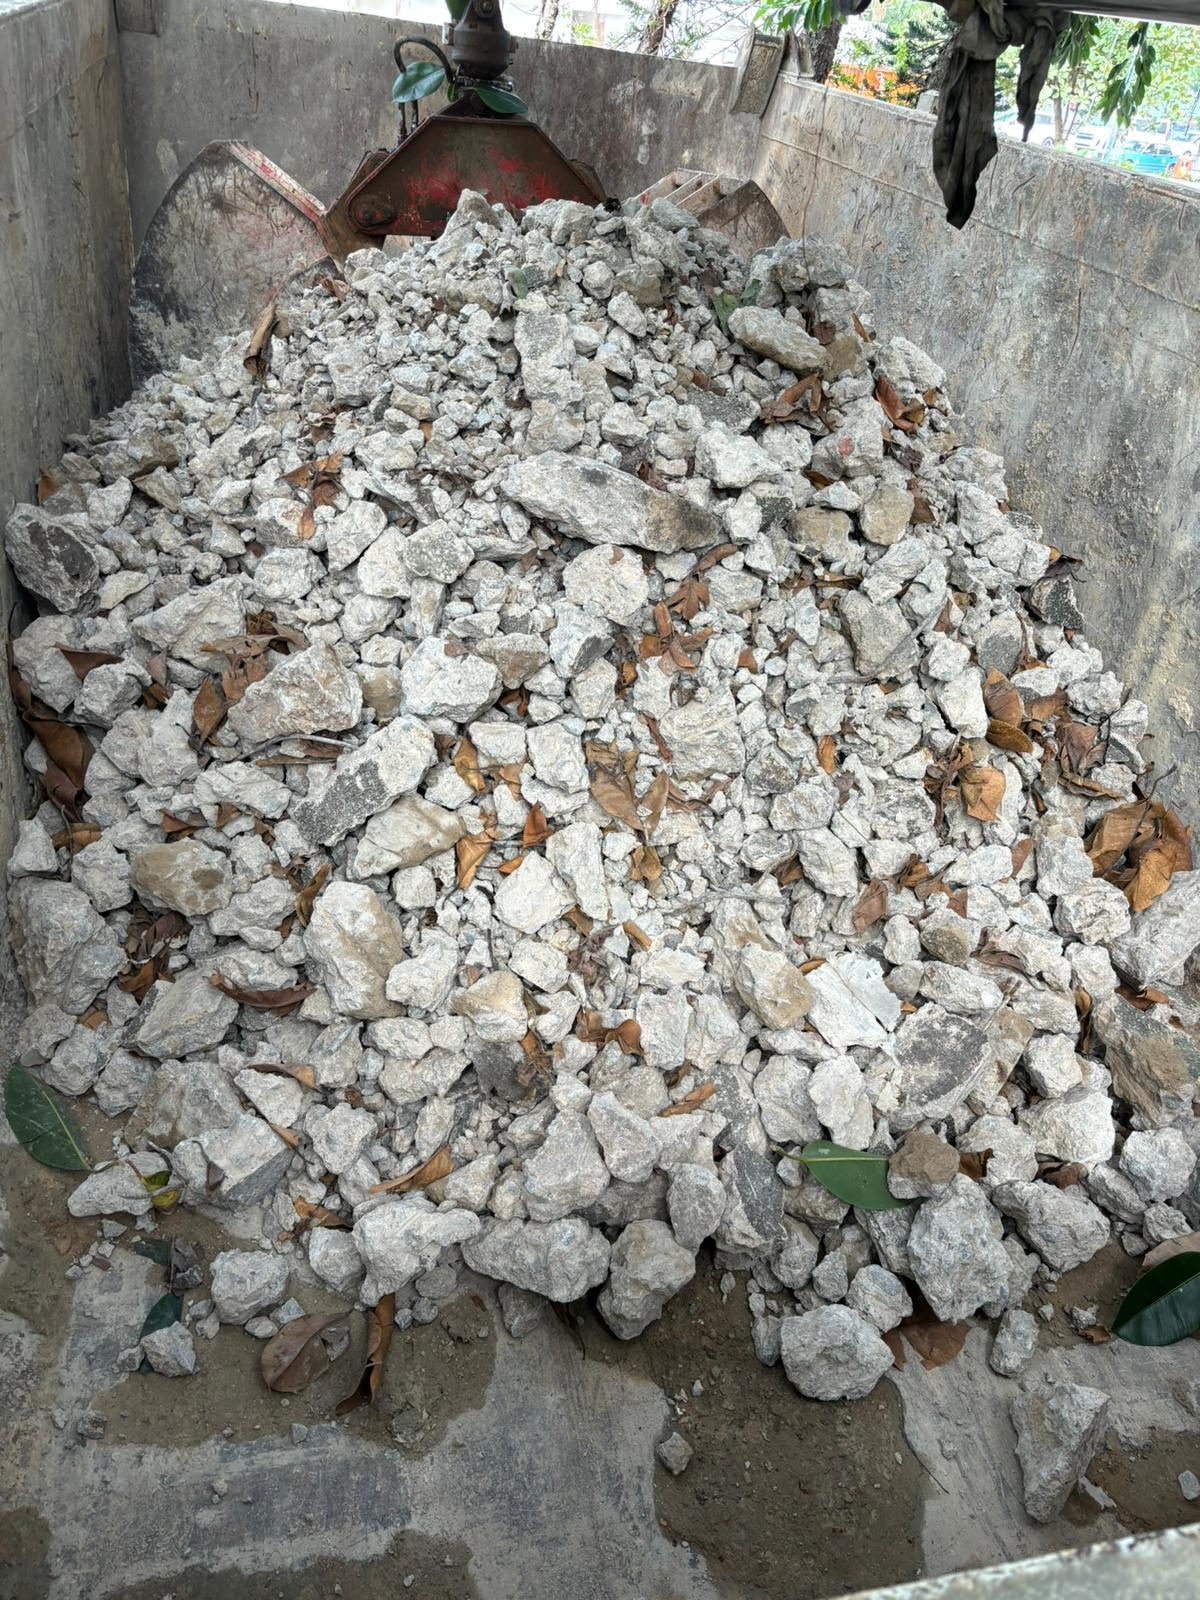dry: (73, 208, 1172, 1369)
